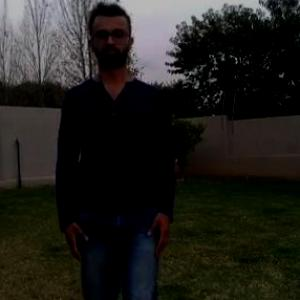follow: (63, 0, 159, 299)
